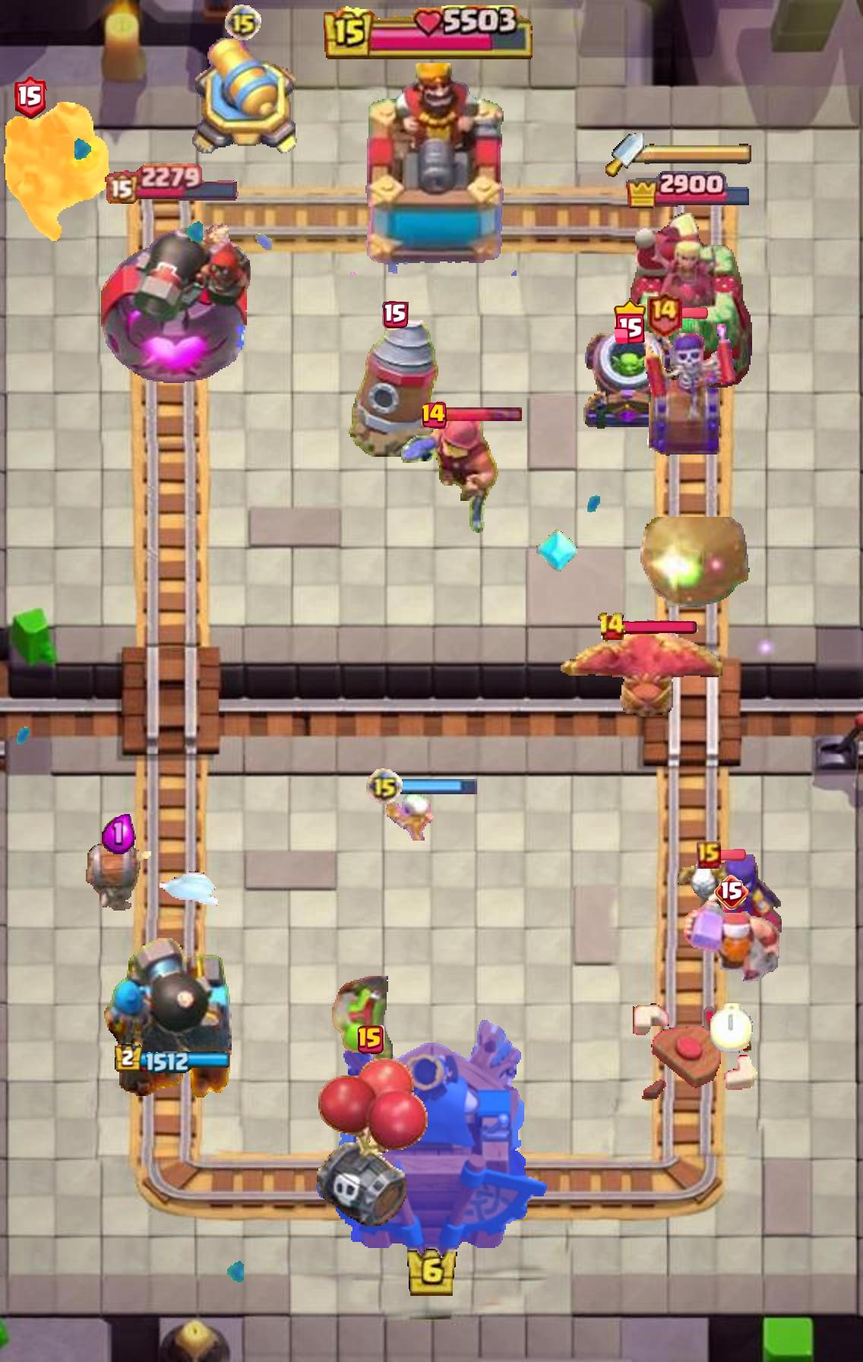cannon: (184, 28, 302, 165)
elixir: (101, 812, 136, 854)
skeleton: (386, 792, 438, 841)
